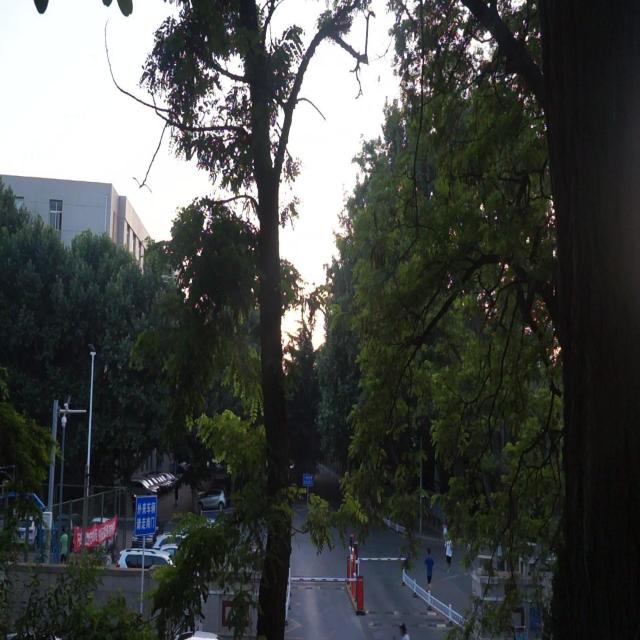UAV: (162, 274, 172, 282)
